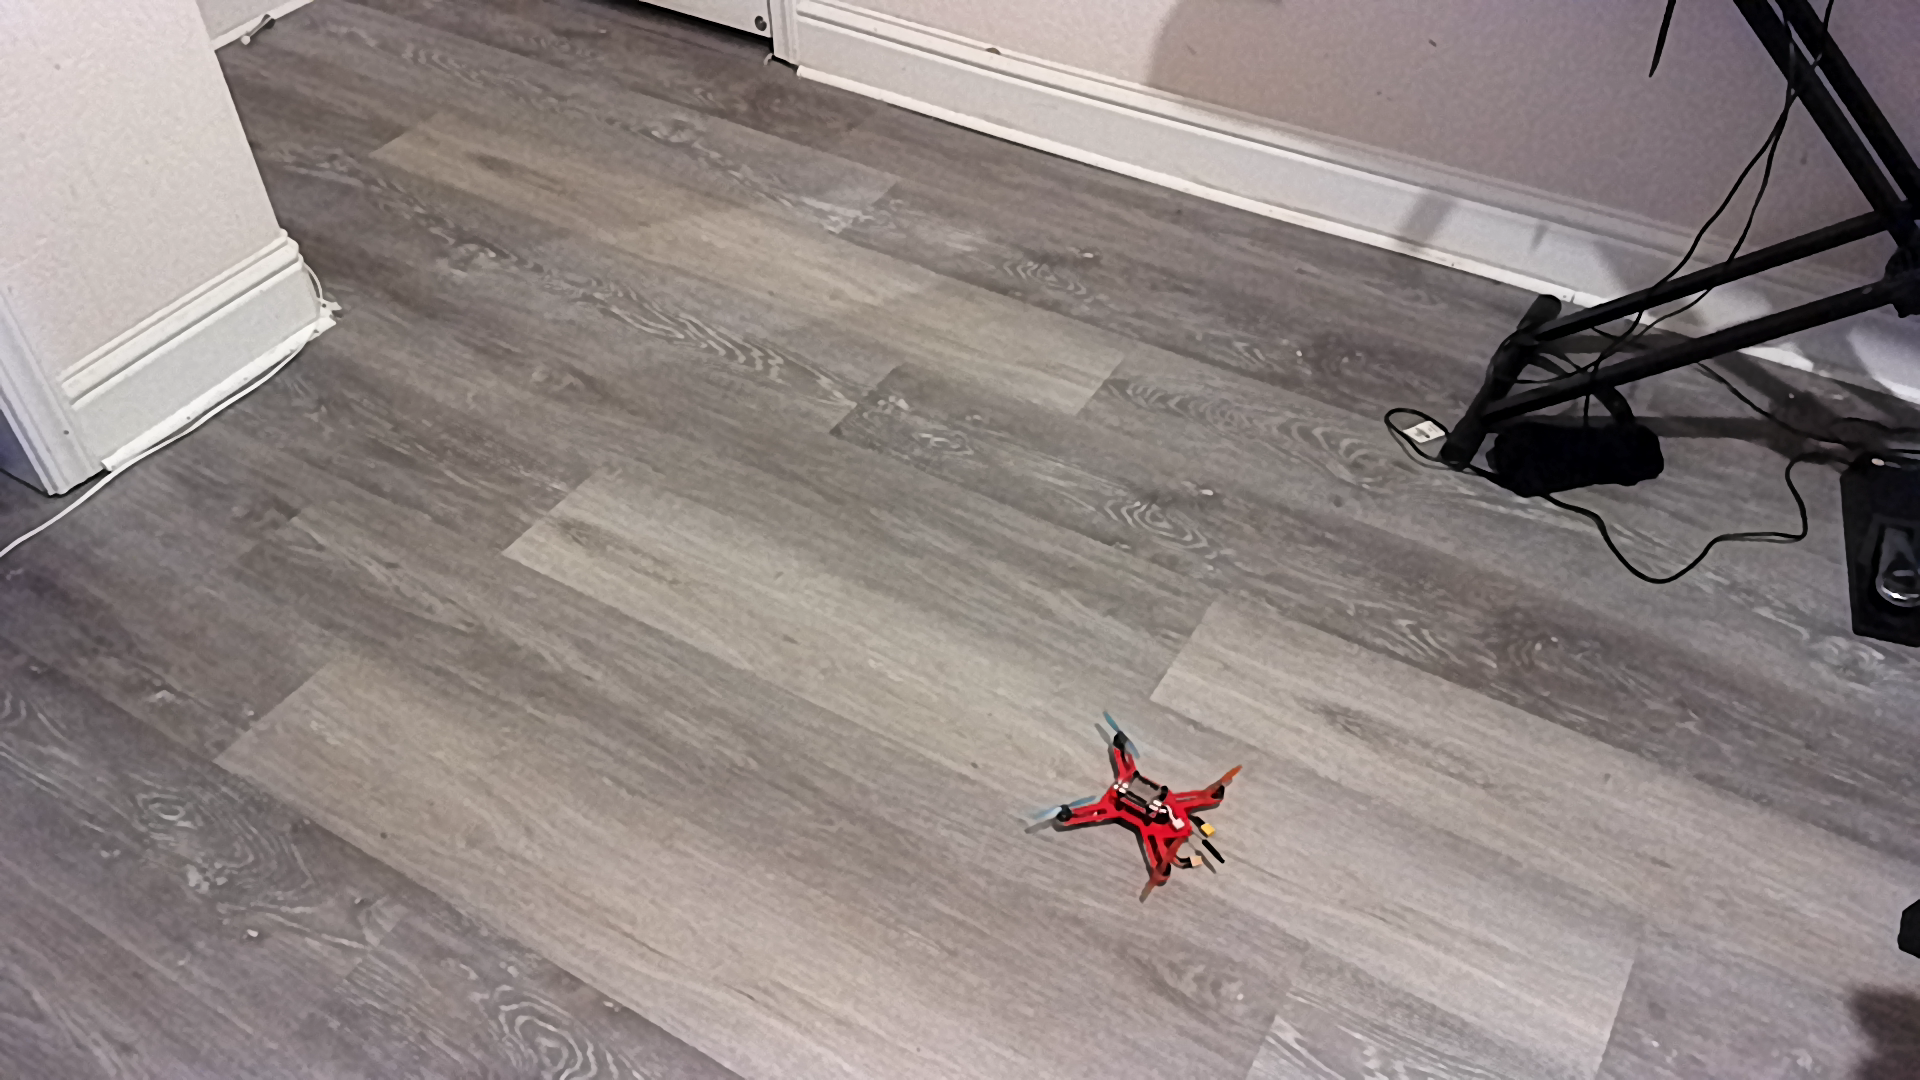drone: (1021, 704, 1249, 901)
